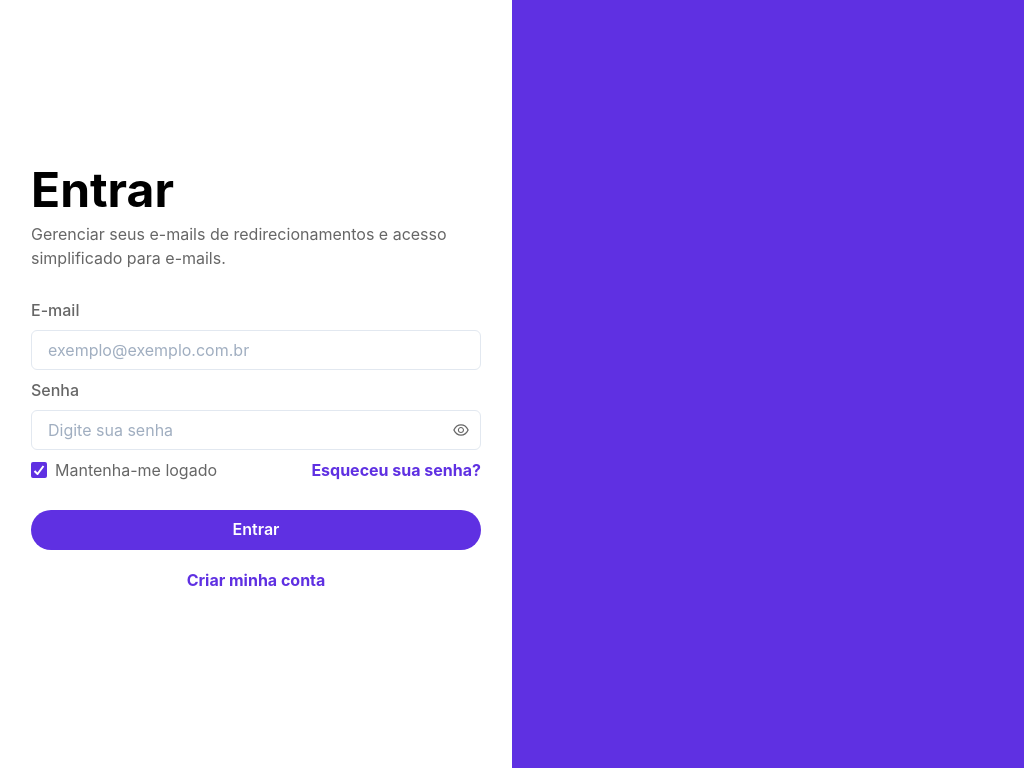
Test: Login › should click on the link to signup move to the signup page
Click the link with test id "signup-link".
click(256, 580)  # box x1=187 y1=570 x2=325 y2=590
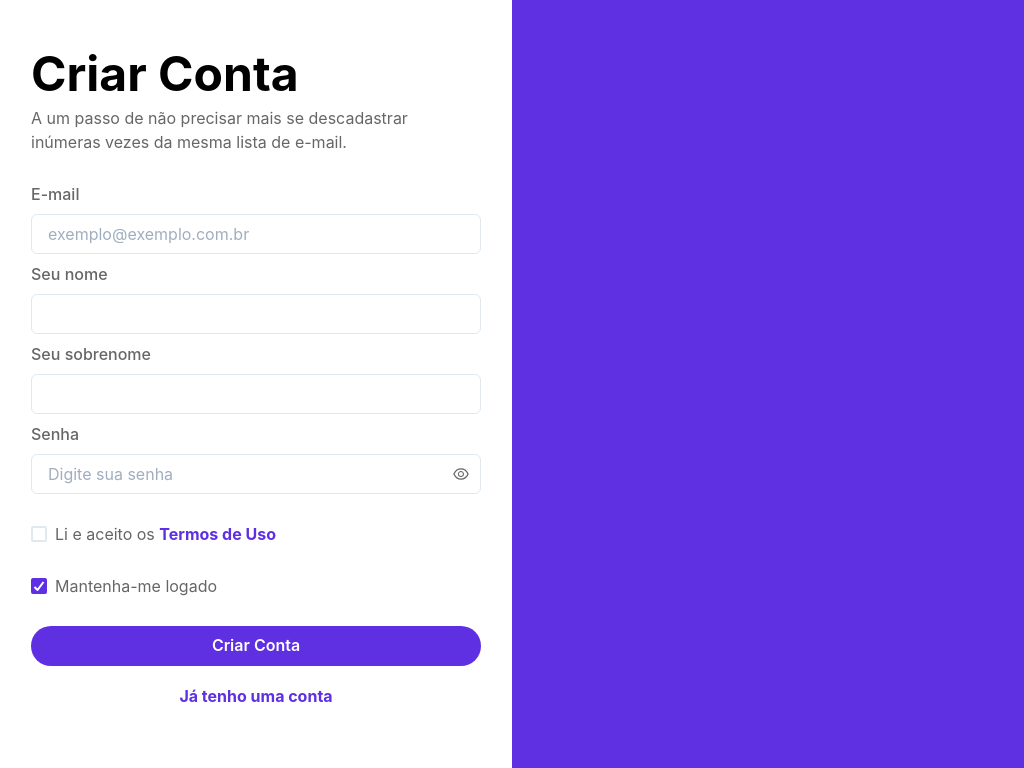
Check: the element with test id "login-box" is gone
Check: the element with test id "signup-box" is shown, box x1=31 y1=50 x2=481 y2=718
